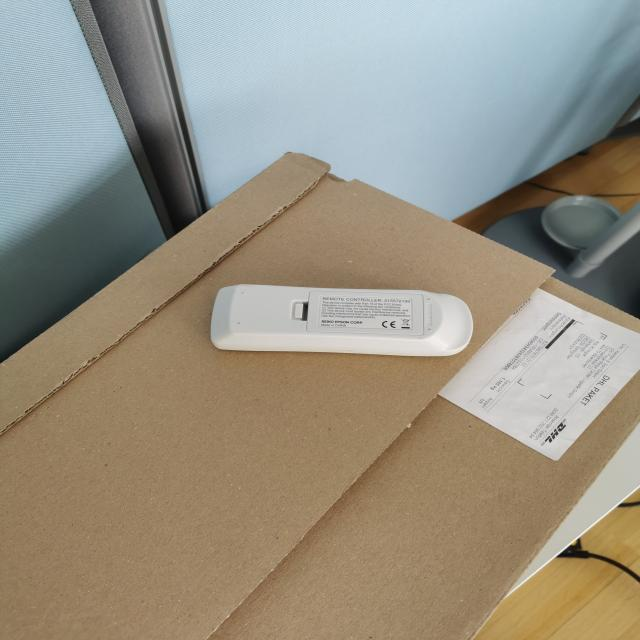remote: (210, 271, 474, 361)
